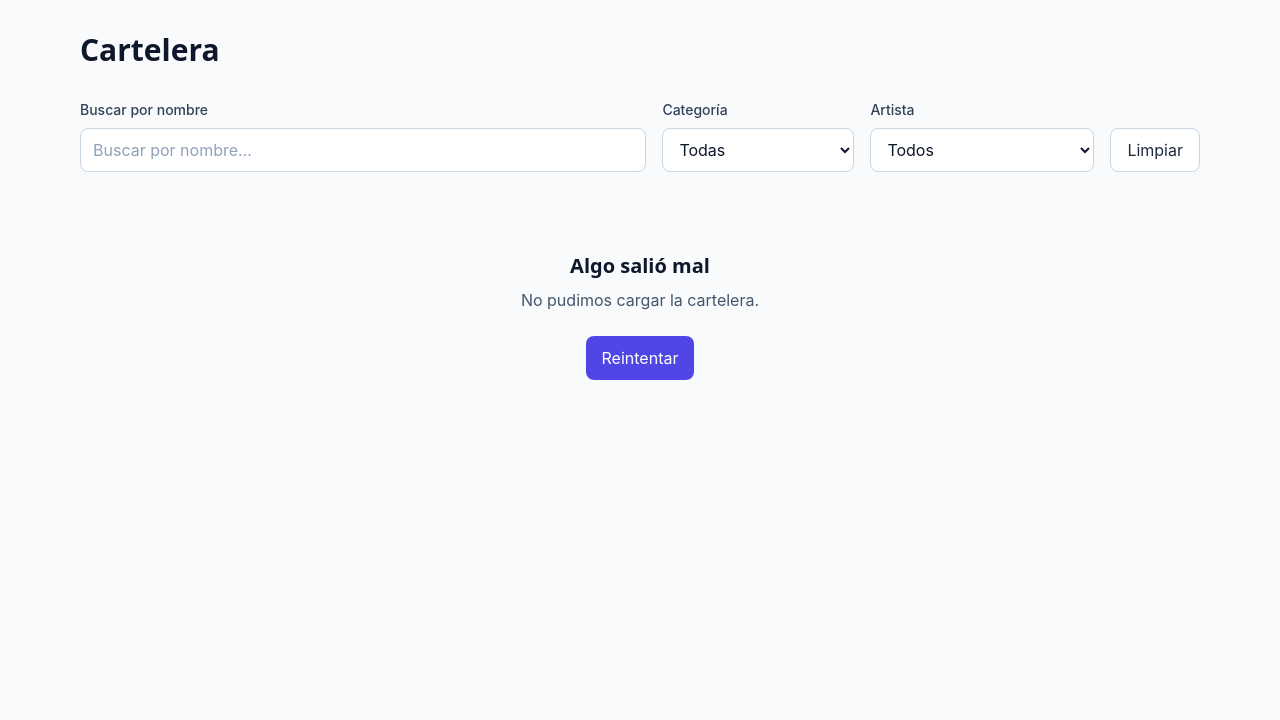
it: QT-FE-001 estados de datos y recuperación › CatalogoEventos anuncia carga, presenta error y se recupera al reintentar
Expected: the text "No pudimos cargar la cartelera." is shown, [521,290,759,310]
Click the button "Reintentar".
click(640, 358)  # box [586,336,694,380]
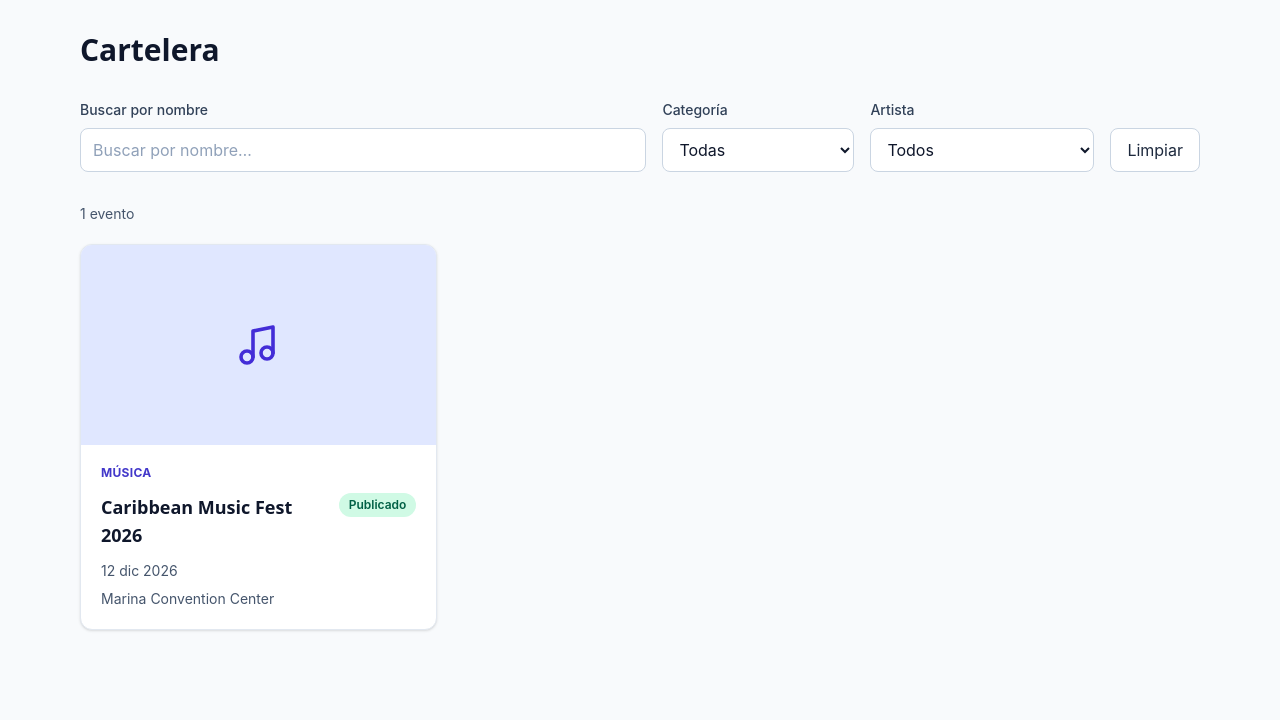
Result: the heading "Caribbean Music Fest 2026" is shown at [101,495,292,547]
Result: the text "No pudimos cargar la cartelera." is gone
